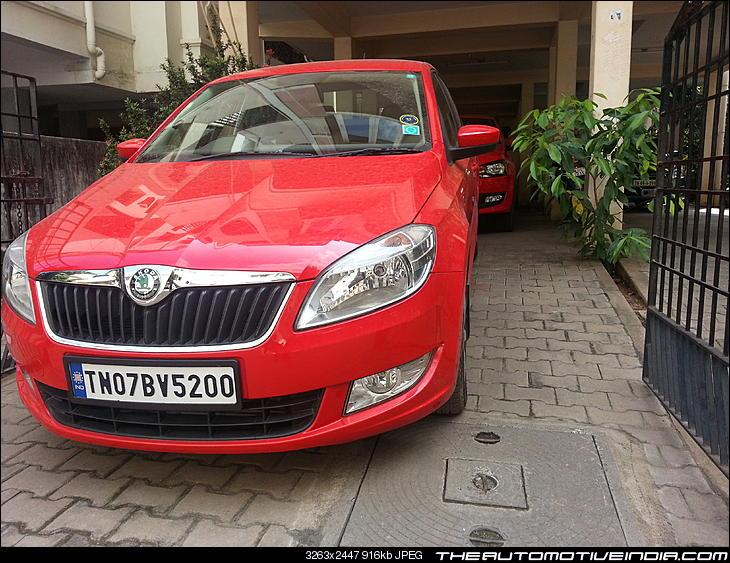number_plate: (45, 348, 261, 416)
